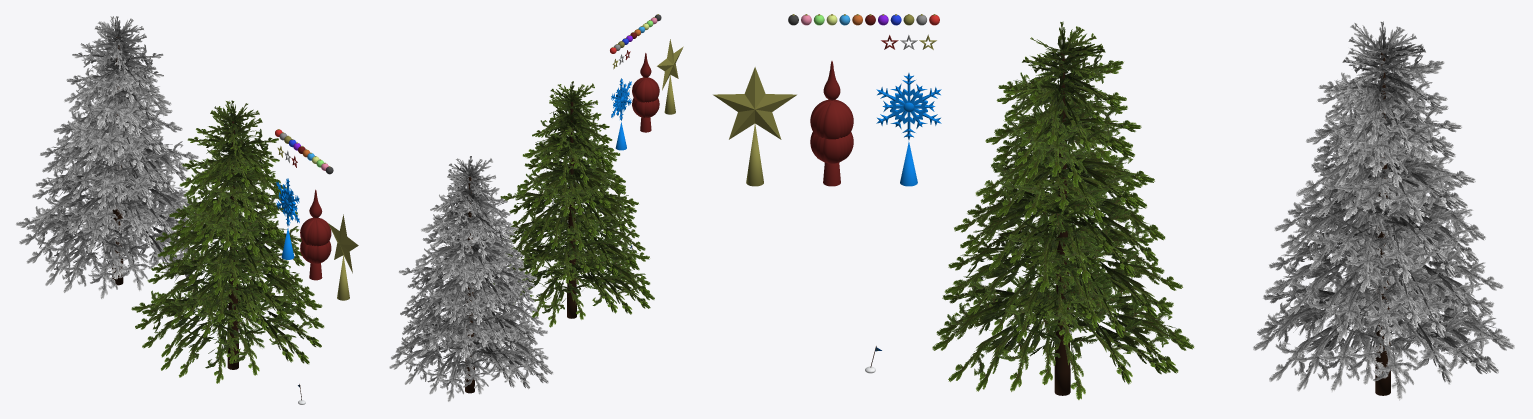
File: christmasTreeMonument.fbx
The picture shows the model from 3 angles, left to right: view 1: azimuth 30°, elevation 25°; view 2: azimuth 150°, elevation 25°; view 3: azimuth 270°, elevation 25°; orthographic projection. The views are drawn at different scales.
Parts seen in each view (by area): view 1: ChristmasTree.001, ChristmasTree, TopperSpikeSphereOrig, Star, SphereDecimate0.7, SnowflakePart.001, Cone.001; view 2: ChristmasTree.001, ChristmasTree, TopperSpikeSphereOrig, Star, SnowflakePart.001, SphereDecimate0.7; view 3: ChristmasTree.001, ChristmasTree, Star, SnowflakePart.001, TopperSpikeSphereOrig, SphereDecimate0.7.
Boxes of the visible parts, x1=… form: ChristmasTree.001: x1=16, y1=16, x2=201, y2=299; ChristmasTree: x1=131, y1=100, x2=324, y2=383; TopperSpikeSphereOrig: x1=300, y1=217, x2=331, y2=246; Star: x1=328, y1=214, x2=358, y2=273; SphereDecimate0.7: x1=300, y1=241, x2=331, y2=263; SnowflakePart.001: x1=276, y1=181, x2=299, y2=222; Cone.001: x1=337, y1=255, x2=349, y2=300; ChristmasTree.001: x1=389, y1=156, x2=553, y2=401; ChristmasTree: x1=493, y1=81, x2=654, y2=327; TopperSpikeSphereOrig: x1=632, y1=77, x2=659, y2=102; Star: x1=657, y1=39, x2=683, y2=90; SnowflakePart.001: x1=611, y1=78, x2=631, y2=120; SphereDecimate0.7: x1=632, y1=98, x2=659, y2=117; ChristmasTree.001: x1=1253, y1=21, x2=1514, y2=400; ChristmasTree: x1=932, y1=21, x2=1194, y2=399; Star: x1=713, y1=67, x2=796, y2=139; SnowflakePart.001: x1=876, y1=73, x2=941, y2=139; TopperSpikeSphereOrig: x1=810, y1=99, x2=853, y2=139; SphereDecimate0.7: x1=810, y1=132, x2=853, y2=163.
Bounding box in the file's own units: 6288 × 3251 × 2095.
Materials: 17 (3 with a texture image).
